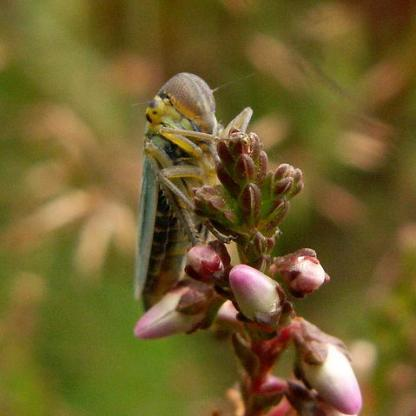Green-Leafhopper: (123, 68, 237, 320)
